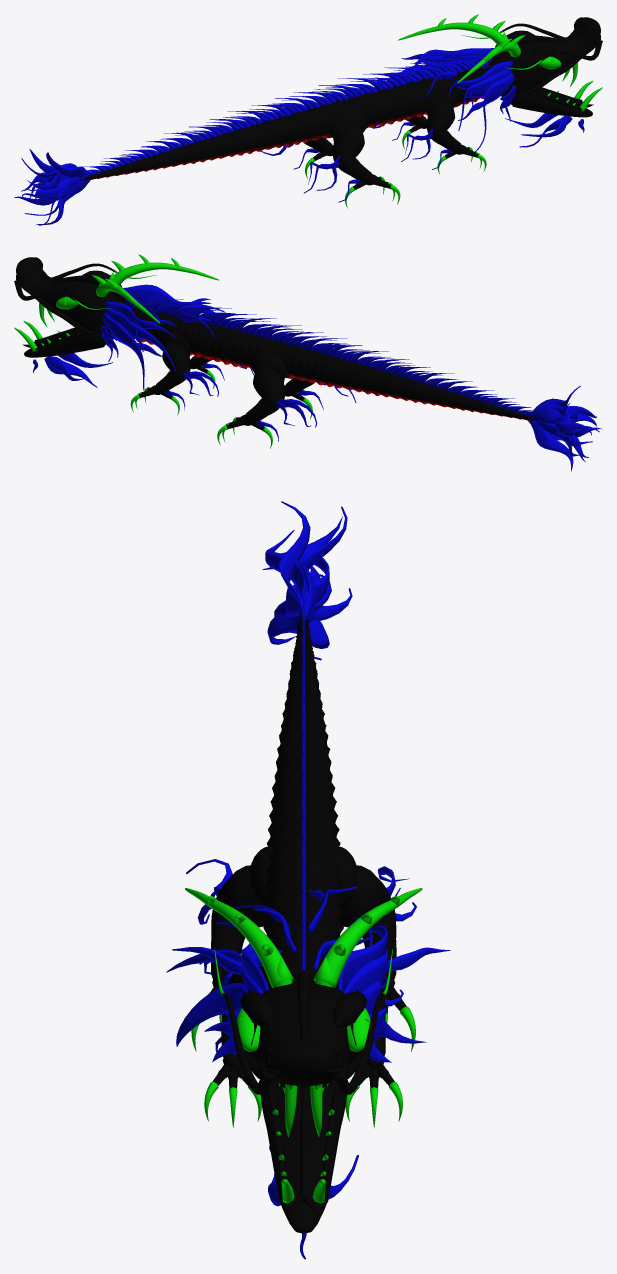
The model's file is dragon200c.glb.
3 renders of one model, top to bottom at view 1: azimuth 30°, elevation 25°; view 2: azimuth 150°, elevation 25°; view 3: azimuth 270°, elevation 25°, orthographic. The views are drawn at different scales.
Visible parts, largest first — view 1: d200c-dragon; view 2: d200c-dragon; view 3: d200c-dragon.
Boxes of the visible parts, x1,y1,x2,y2 form: d200c-dragon: (14,14,602,225); d200c-dragon: (14,254,602,471); d200c-dragon: (166,501,450,1259).
Bounding box in the file's own units: 32 × 6.99 × 6.87.
